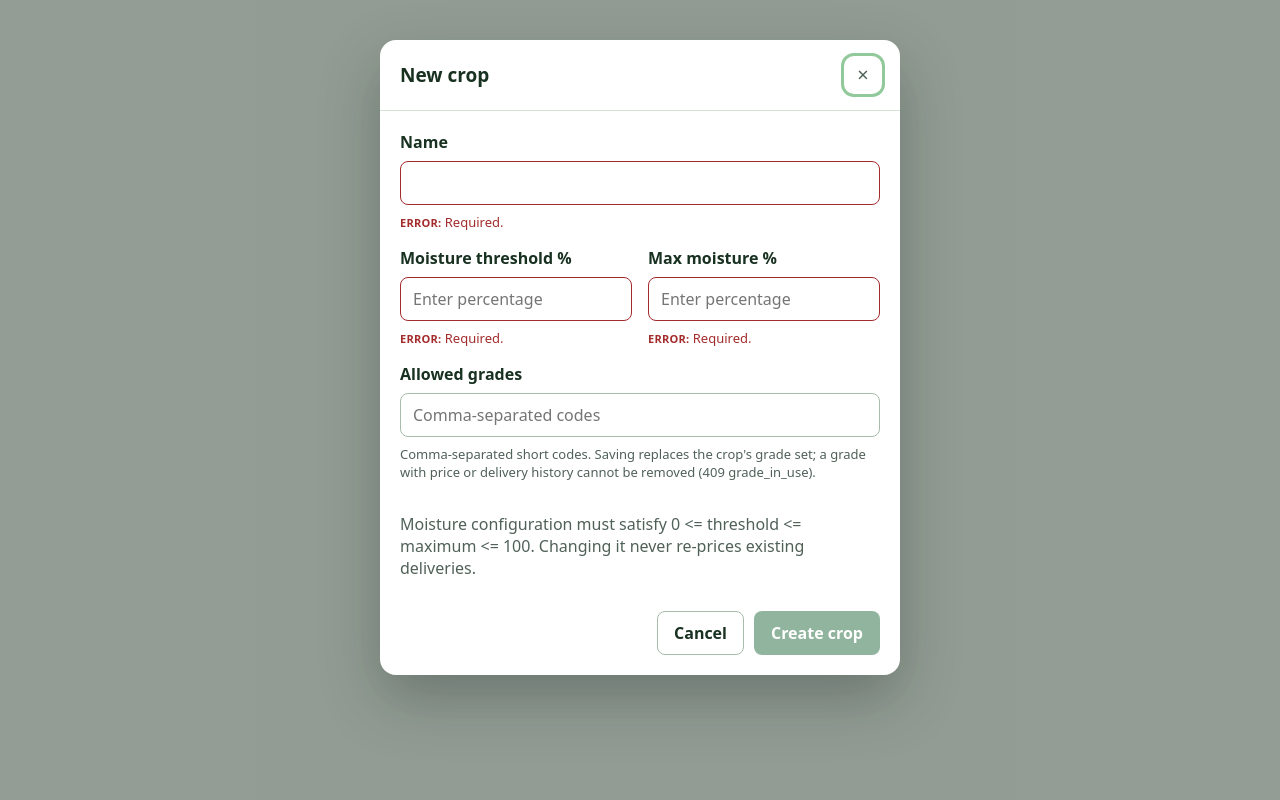
Test: CropForm › keeps the entered configuration when the API rejects the bounds
Type "Paddy" into the field labelled "Name" at (640, 183), box [400,161,880,205]
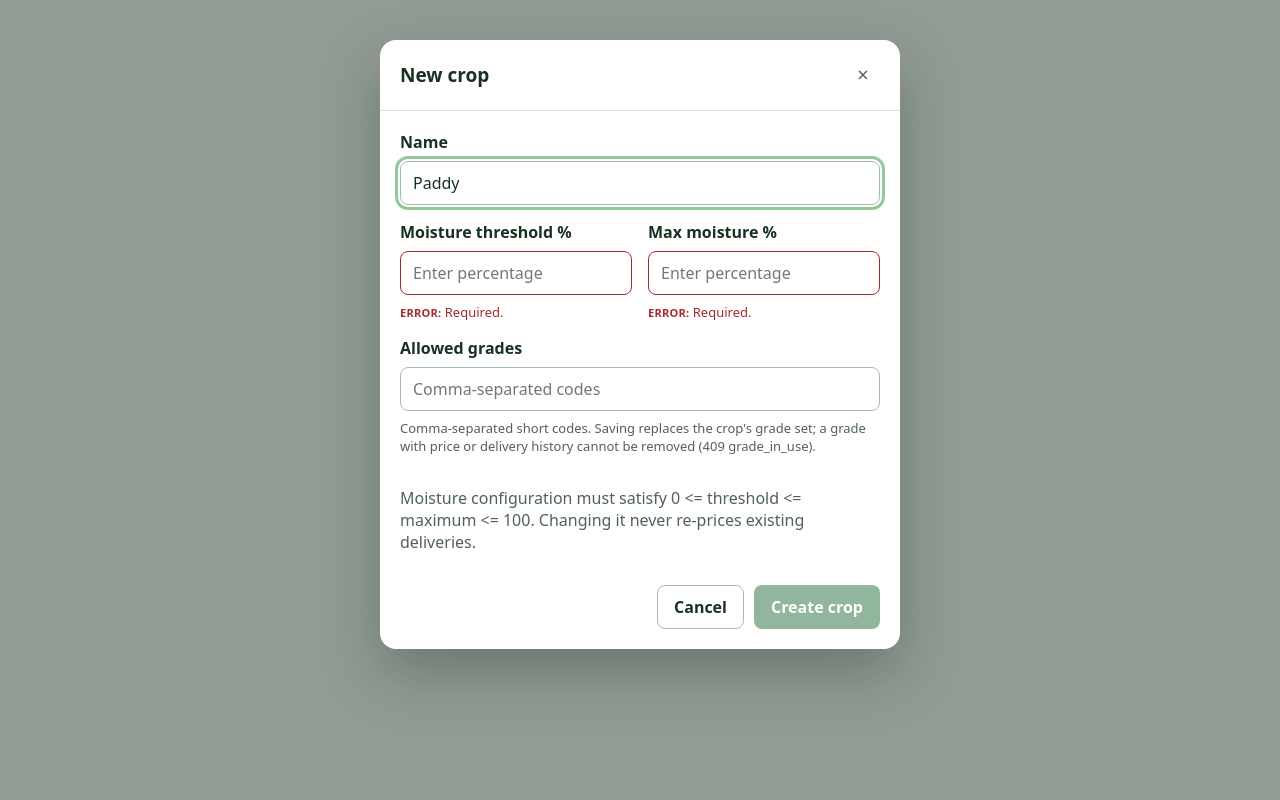
Type "14" into the field labelled "Moisture threshold %" at (516, 273), box [400,251,632,295]
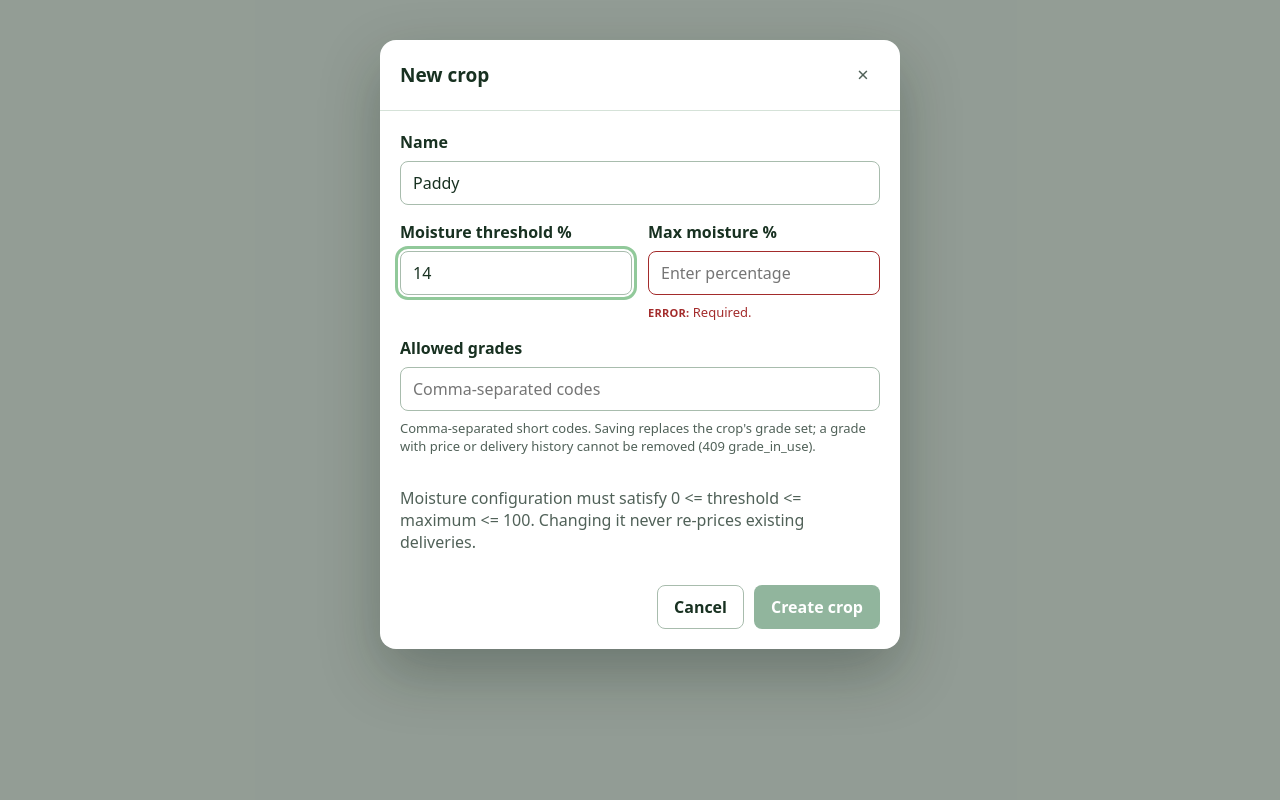
Type "20" into the field labelled "Max moisture %" at (764, 273), box [648,251,880,295]
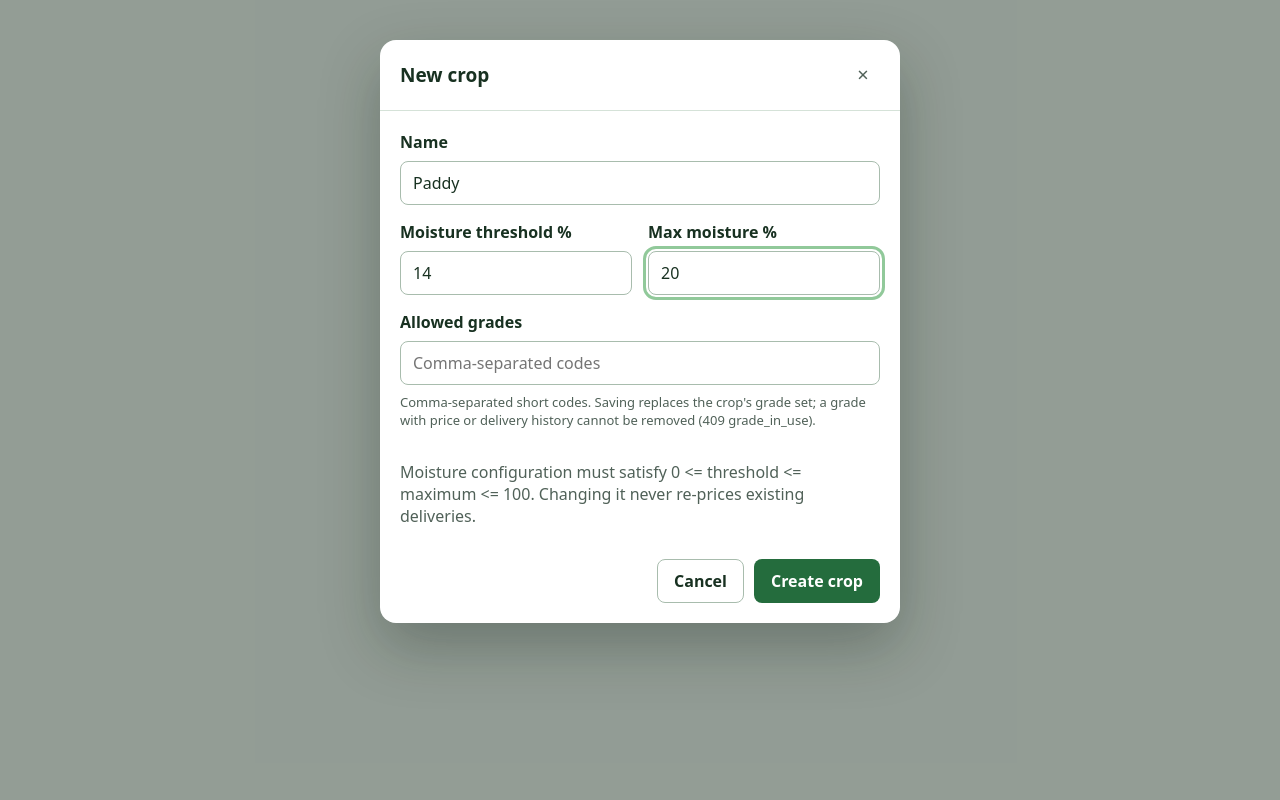
Type "A, B" into the field labelled "Allowed grades" at (640, 363), box [400,341,880,385]
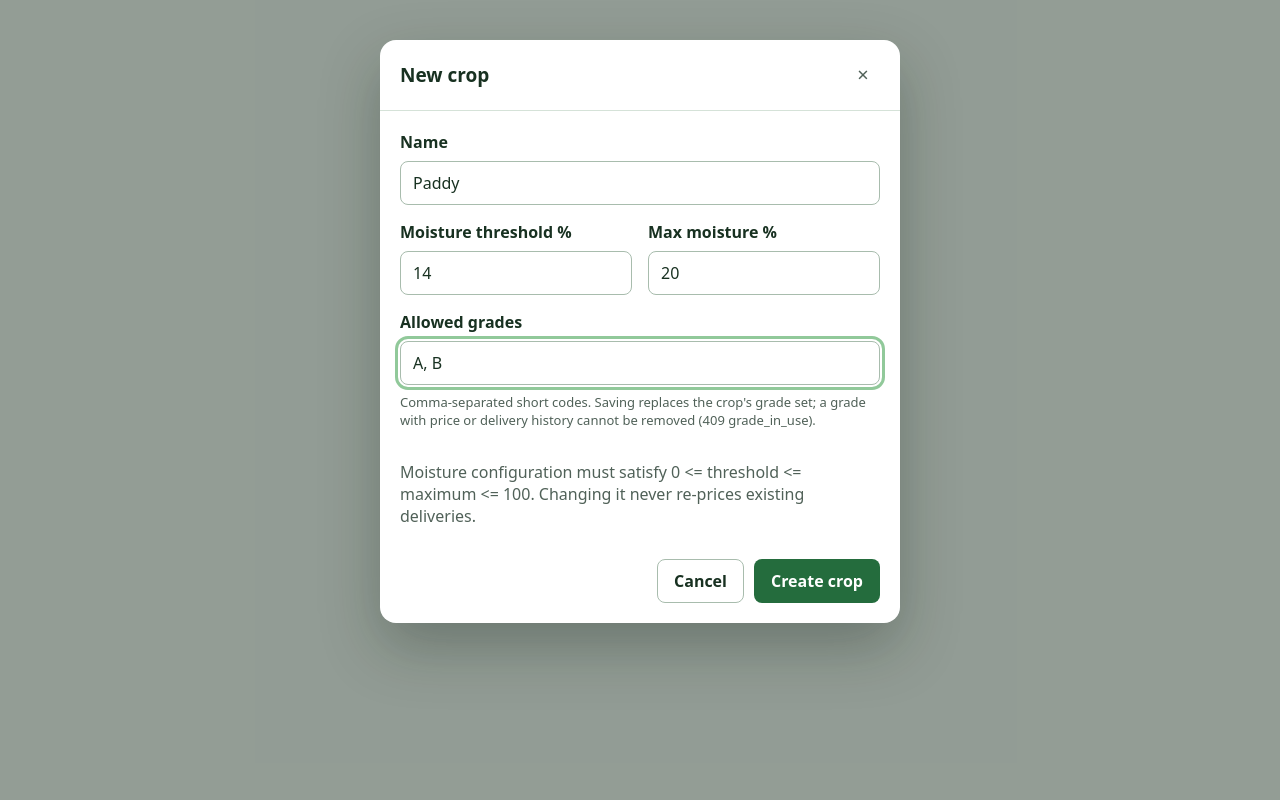
Click the button "Create crop" at (817, 581), box [754,559,880,603]
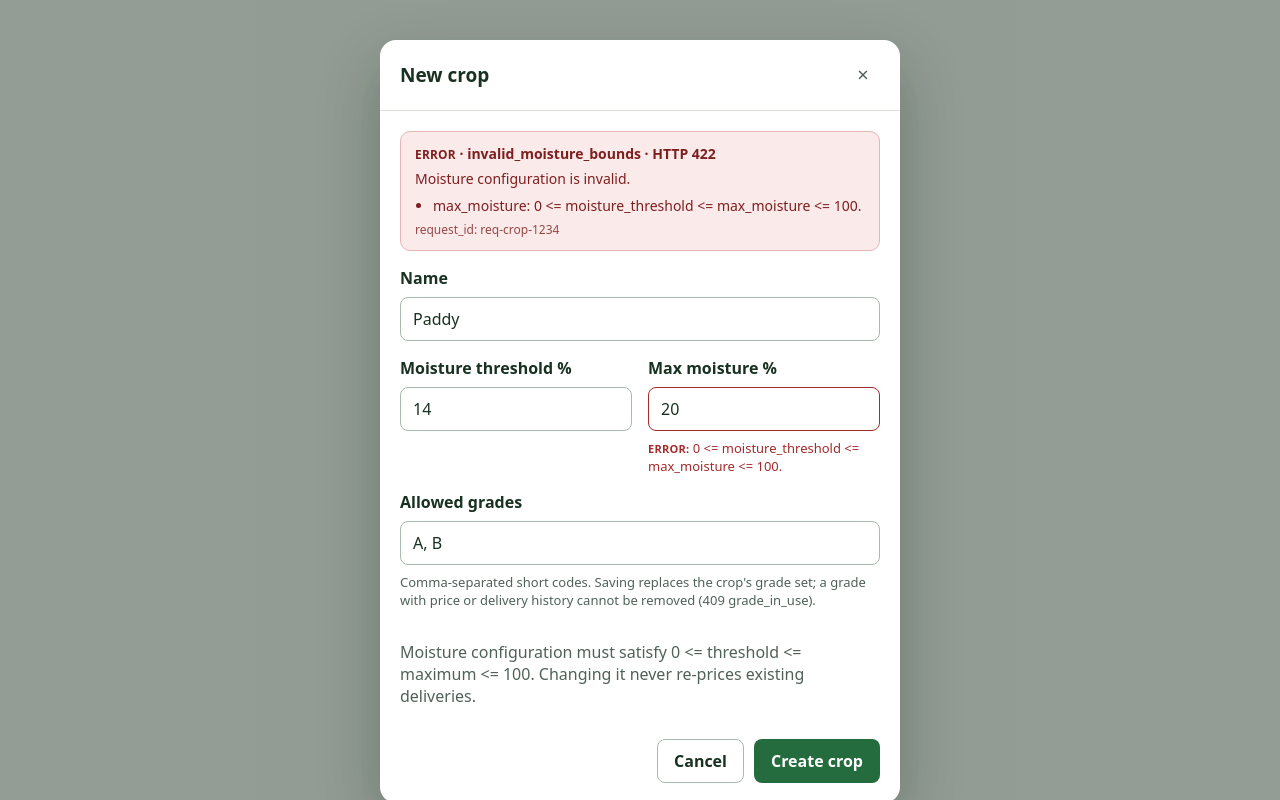
expect the text "request_id: req-crop-1234" is shown: met, box [415,221,560,238]
